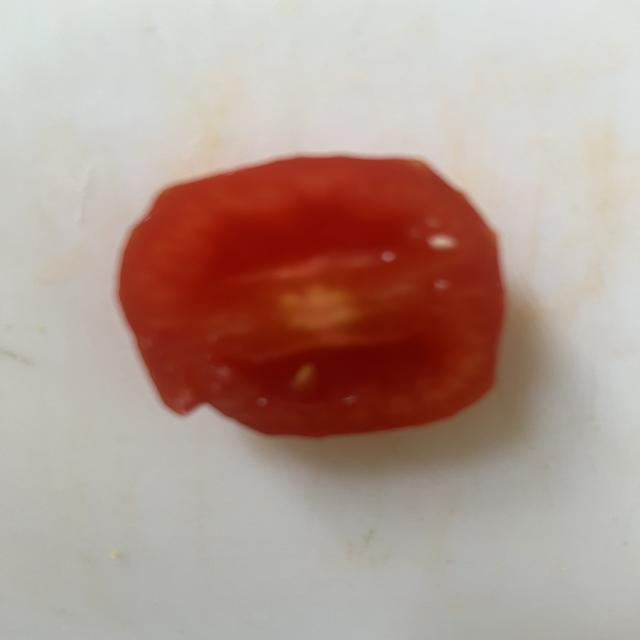sliced_tomato: (120, 157, 503, 437)
